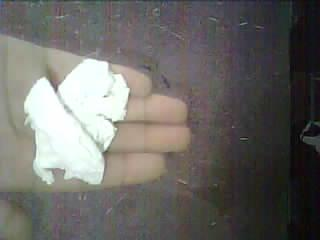paper: (24, 59, 129, 184)
